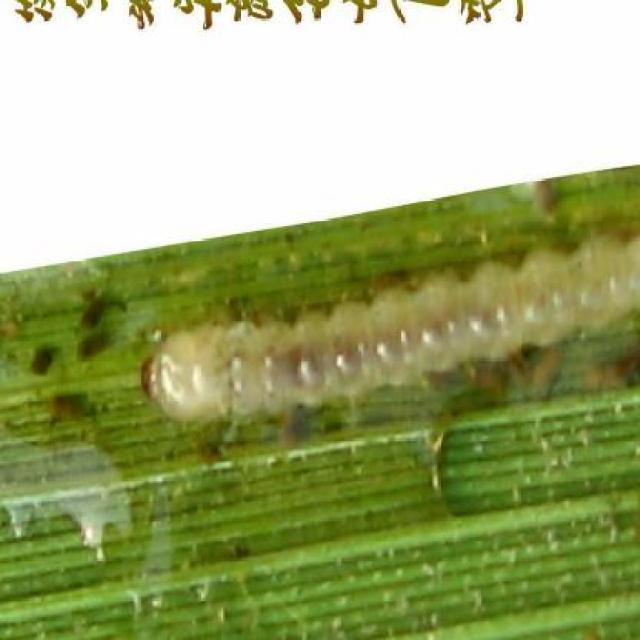leaf-folder: (129, 224, 640, 442)
